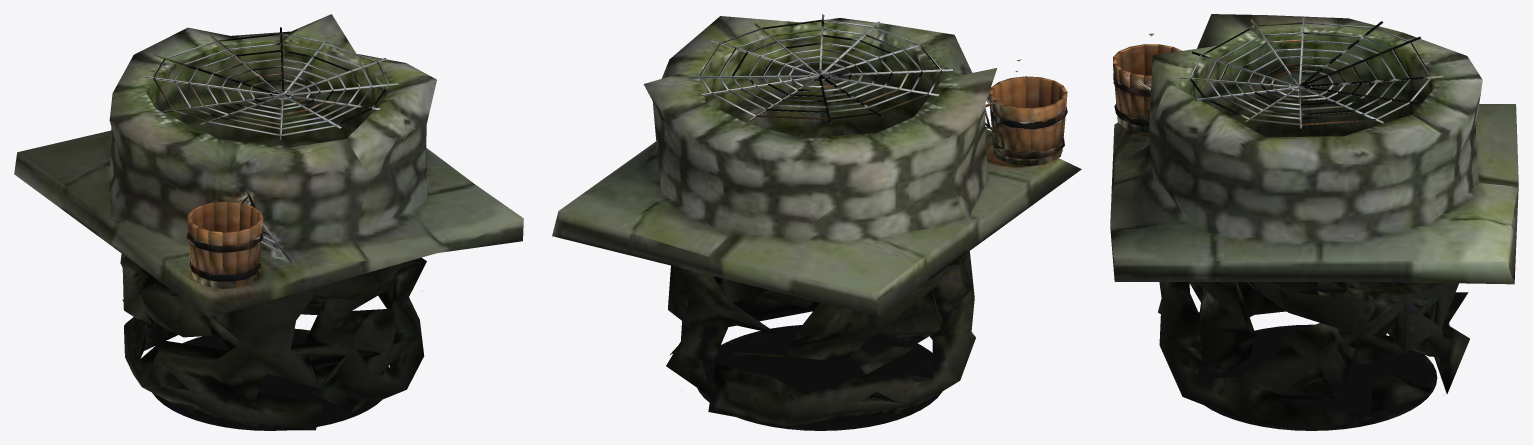
The model's file is well_cobweb_far.glb.
3 views of the same model, side by side, from view 1: azimuth 30°, elevation 25°; view 2: azimuth 150°, elevation 25°; view 3: azimuth 270°, elevation 25° (orthographic). The views are drawn at different scales.
Parts seen in each view (by area): view 1: well_cobweb_lod1; view 2: well_cobweb_lod1; view 3: well_cobweb_lod1.
Part boxes in pixels (x1,y1,x2,y2): well_cobweb_lod1: (14, 14, 523, 430); well_cobweb_lod1: (552, 14, 1081, 430); well_cobweb_lod1: (1110, 14, 1518, 430).
Size of the model in its own units: 1.86 by 1.69 by 2.02.
Materials: 1 (1 with a texture image).
